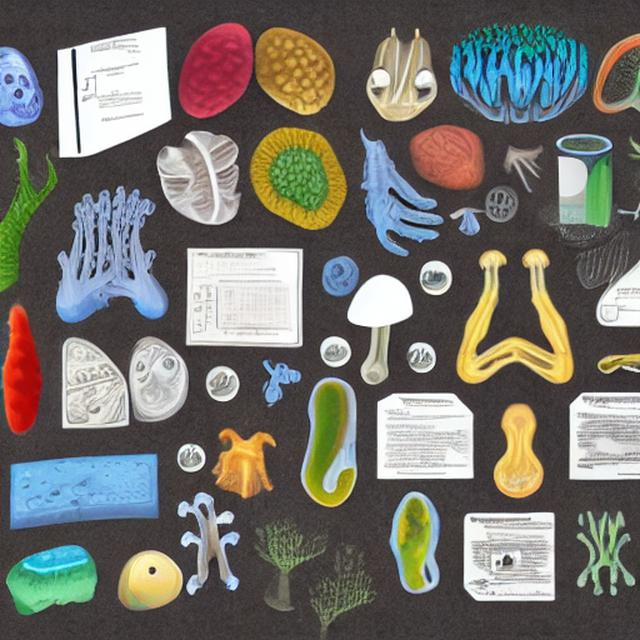Graph: (204, 277, 294, 338)
